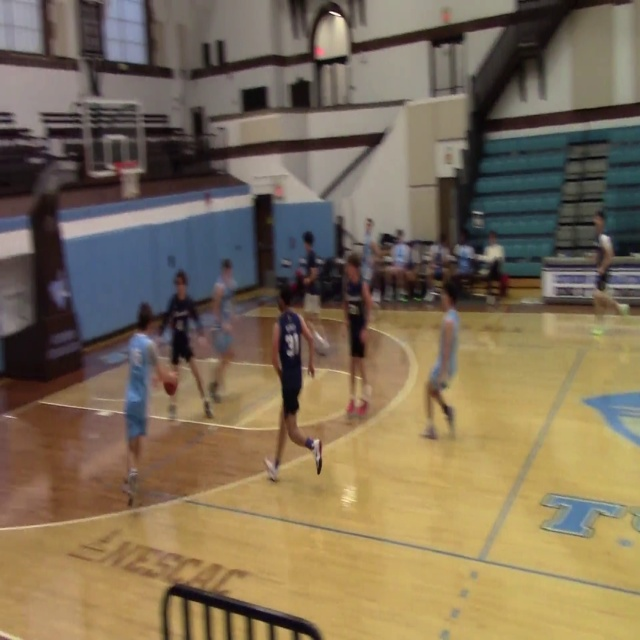Basketball: (163, 374, 178, 396), (618, 303, 630, 315), (591, 327, 604, 336)
